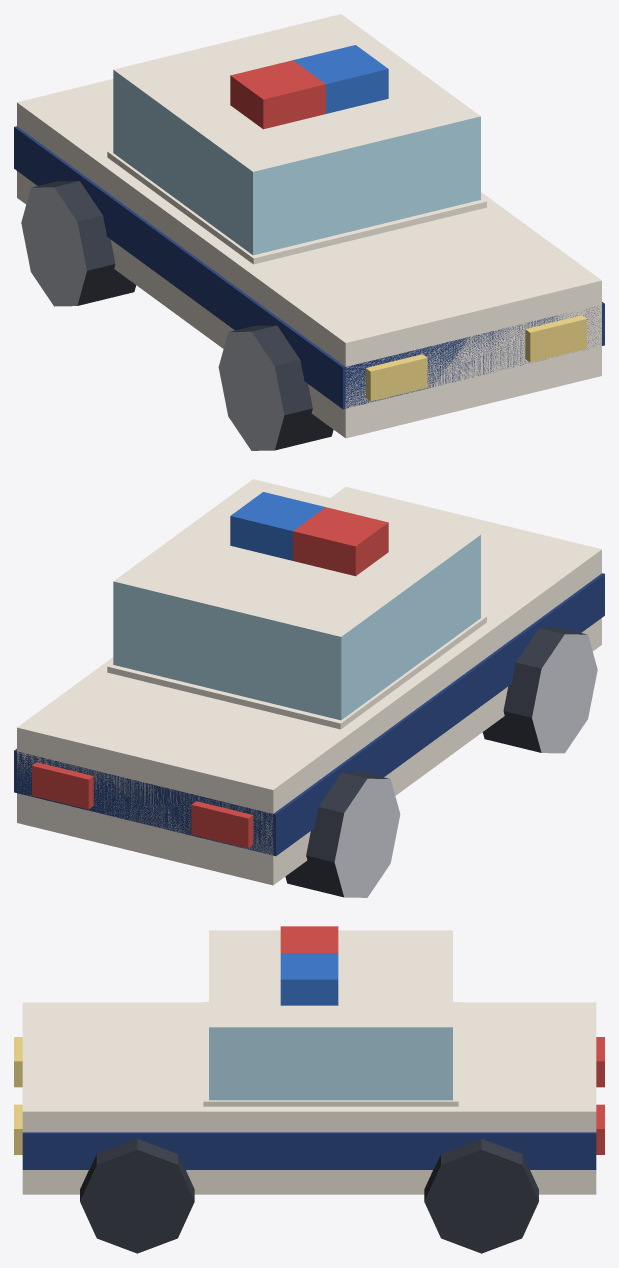
File: vehicle_police.glb
The picture shows the model from 3 angles, top to bottom: view 1: azimuth 30°, elevation 25°; view 2: azimuth 150°, elevation 25°; view 3: azimuth 270°, elevation 25°; orthographic projection. The views are drawn at different scales.
Parts seen in each view (by area): view 1: vehicle_police; view 2: vehicle_police; view 3: vehicle_police.
Boxes of the visible parts, <box> form: vehicle_police: <box>14,14,604,450</box>; vehicle_police: <box>14,479,604,897</box>; vehicle_police: <box>14,926,604,1253</box>.
Size of the model in its own units: 0.11 by 0.09 by 0.206.
